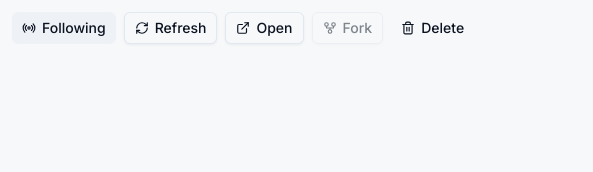
RuntimeControlBar › requires confirmation before delete
Click the button "Delete" at coordinates (433, 28), box [391,12,474,44]
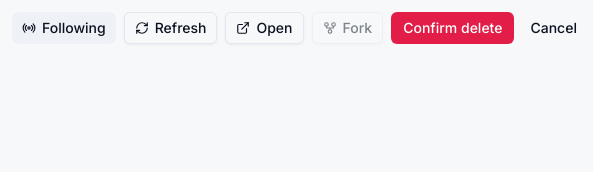
Now the button "Confirm delete" is shown, box [391,12,514,44]
